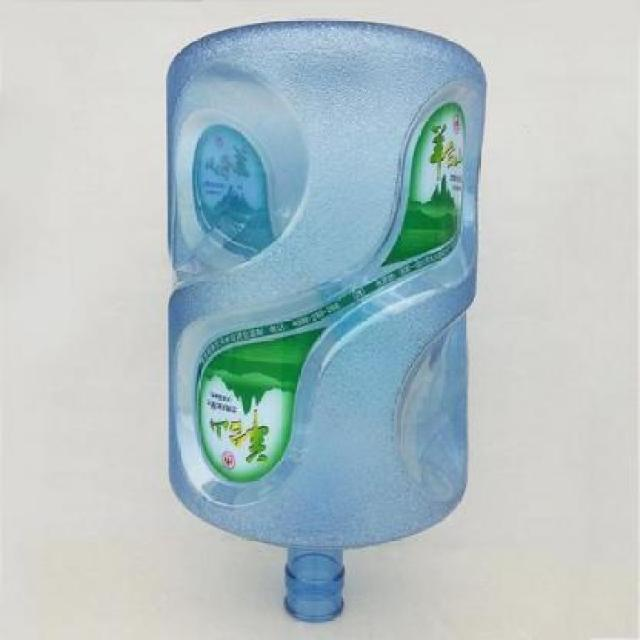coolerbottle: (157, 14, 496, 625)
